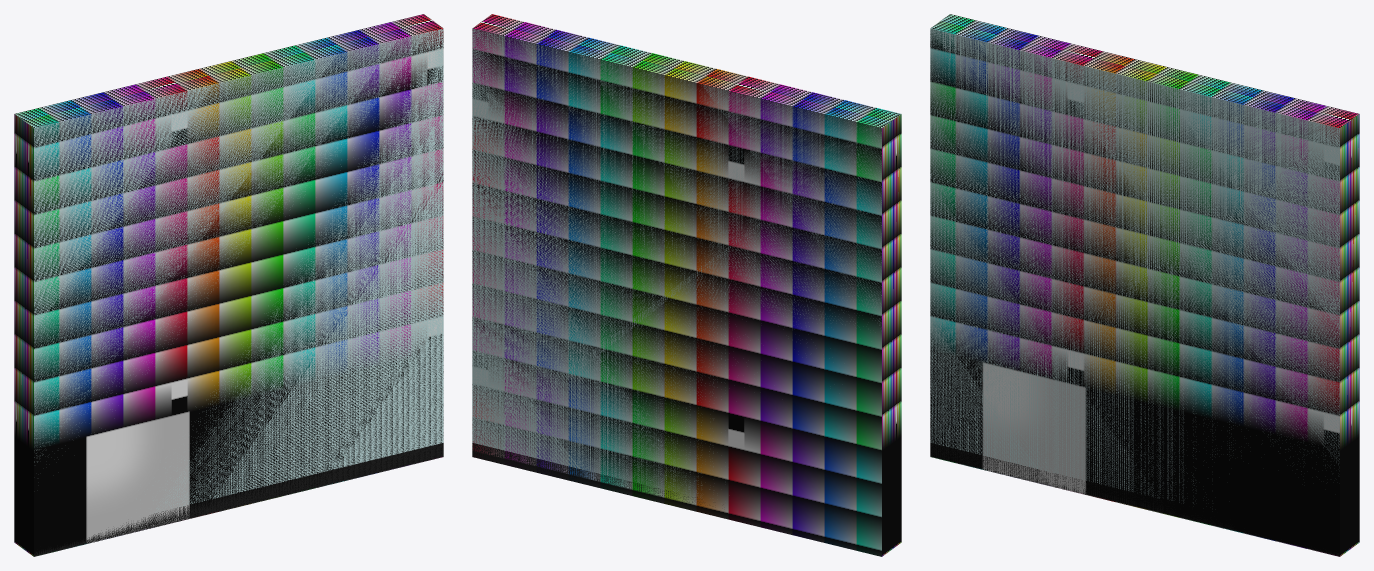
File: interiorWall_line_3.fbx
3 renders of one model, left to right at view 1: azimuth 30°, elevation 25°; view 2: azimuth 150°, elevation 25°; view 3: azimuth 330°, elevation 25°, orthographic.
Visible parts, largest first — view 1: trigger, interiorWall_line_3; view 2: trigger, interiorWall_line_3; view 3: trigger, interiorWall_line_3.
Part boxes in pixels (x1,y1,x2,y2): trigger: [14, 14, 443, 556]; interiorWall_line_3: [34, 28, 443, 556]; trigger: [472, 14, 901, 556]; interiorWall_line_3: [472, 28, 881, 515]; trigger: [930, 14, 1359, 556]; interiorWall_line_3: [930, 28, 1339, 556].
Size of what is drawn, in the model's own units: 300 by 300 by 25.
